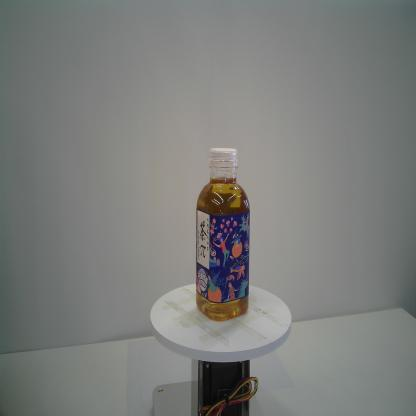Drink: (195, 146, 251, 322)
